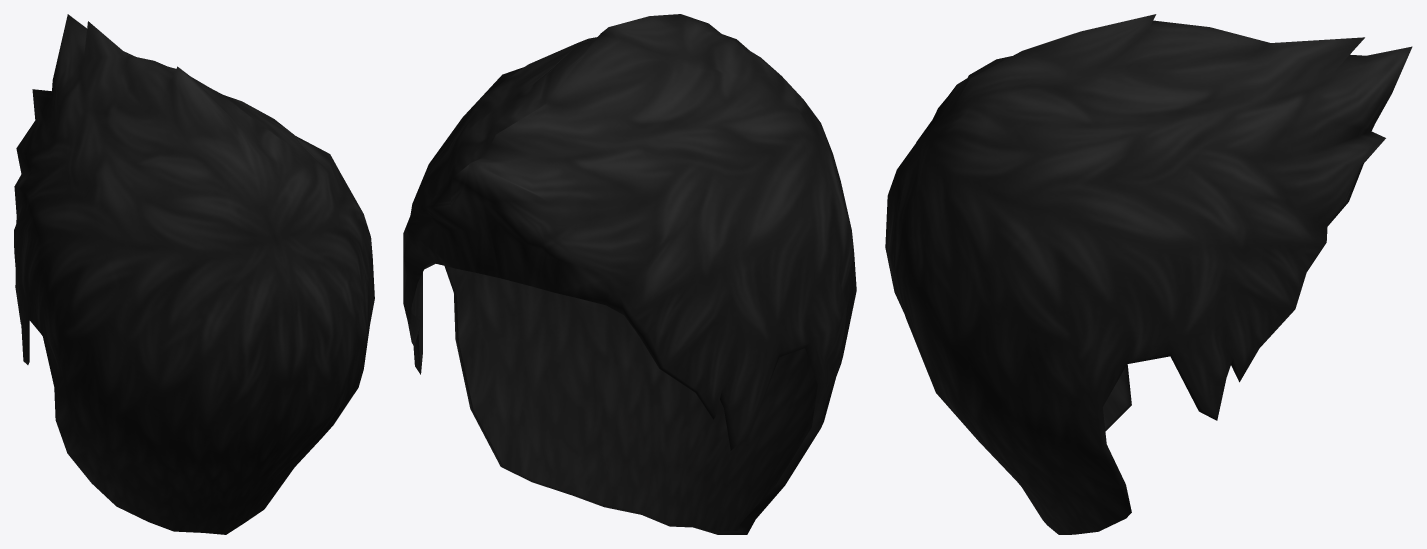
Rendered from Hair_Male_005_textured_black.glb.
3 renders of one model, left to right at view 1: azimuth 30°, elevation 25°; view 2: azimuth 150°, elevation 25°; view 3: azimuth 270°, elevation 25°, orthographic. The views are drawn at different scales.
Visible parts, largest first — view 1: Hair_Male_005; view 2: Hair_Male_005; view 3: Hair_Male_005.
Part boxes in pixels (<box>): Hair_Male_005: <box>14,14,374,534</box>; Hair_Male_005: <box>403,14,856,534</box>; Hair_Male_005: <box>885,14,1412,534</box>.
Bounding box in the file's own units: 0.1845 × 0.2501 × 0.2361.
1 material, 1 textured.
